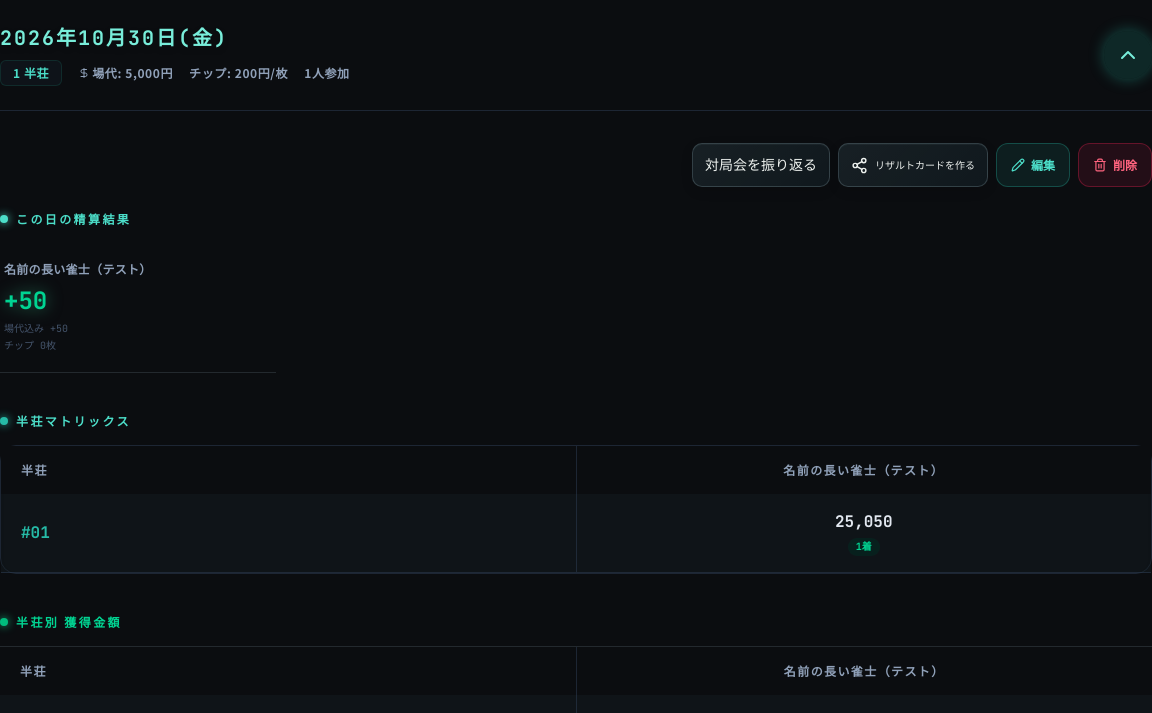
Scenario: recorded-result replay › opens from existing history without invoking any write action
Step 1. Click the button "対局会を振り返る" → (761, 165), box [692, 143, 830, 187]
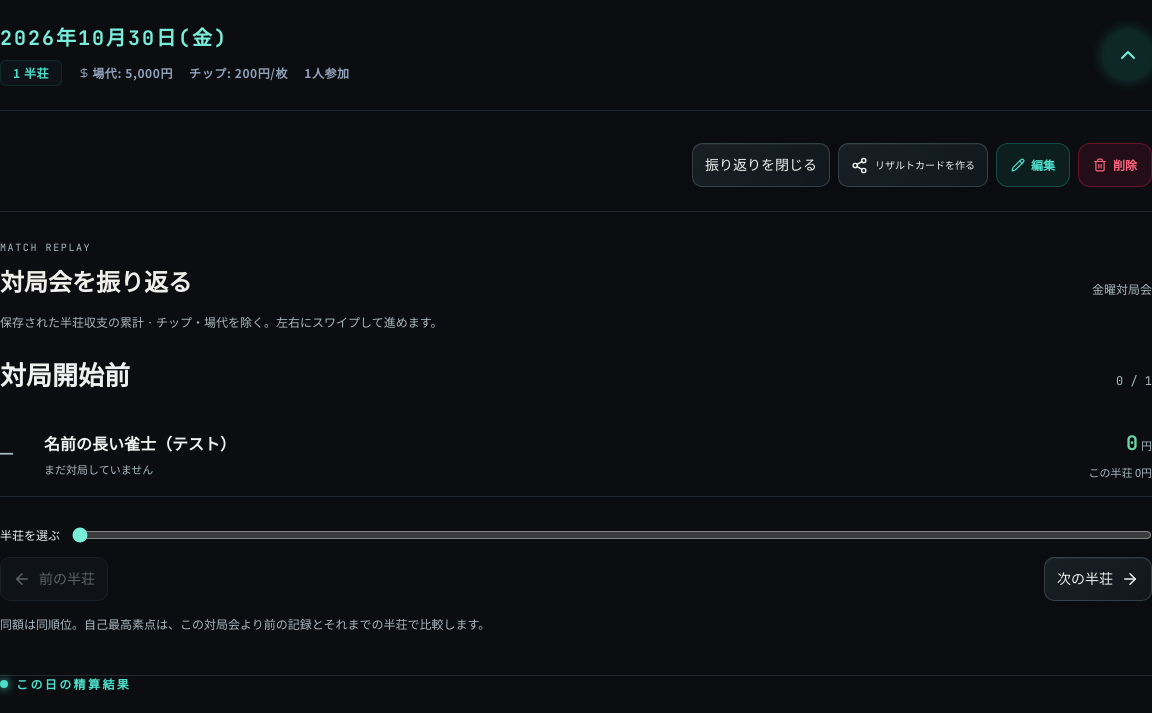
Expected: the heading "対局会を振り返る" is shown, [0, 262, 192, 298]
Step 2. Click the button "次の半荘" → (1098, 579), box [1044, 557, 1151, 601]
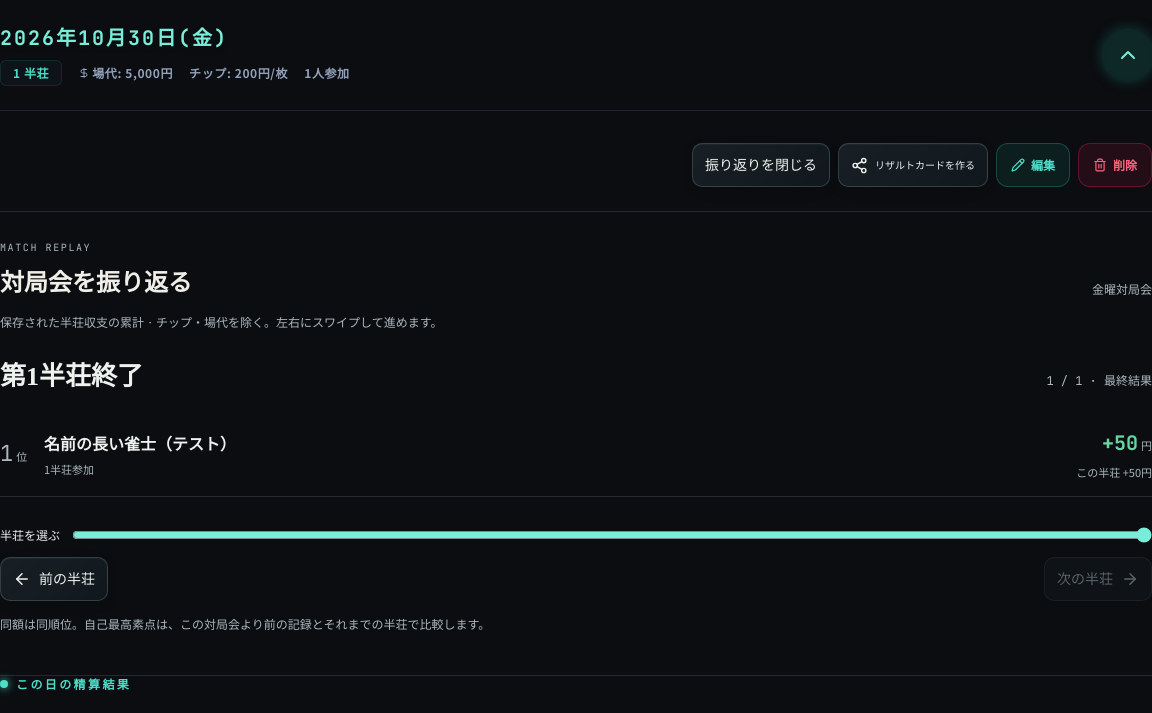
Step 3. Click the button "振り返りを閉じる" → (761, 165), box [692, 143, 830, 187]
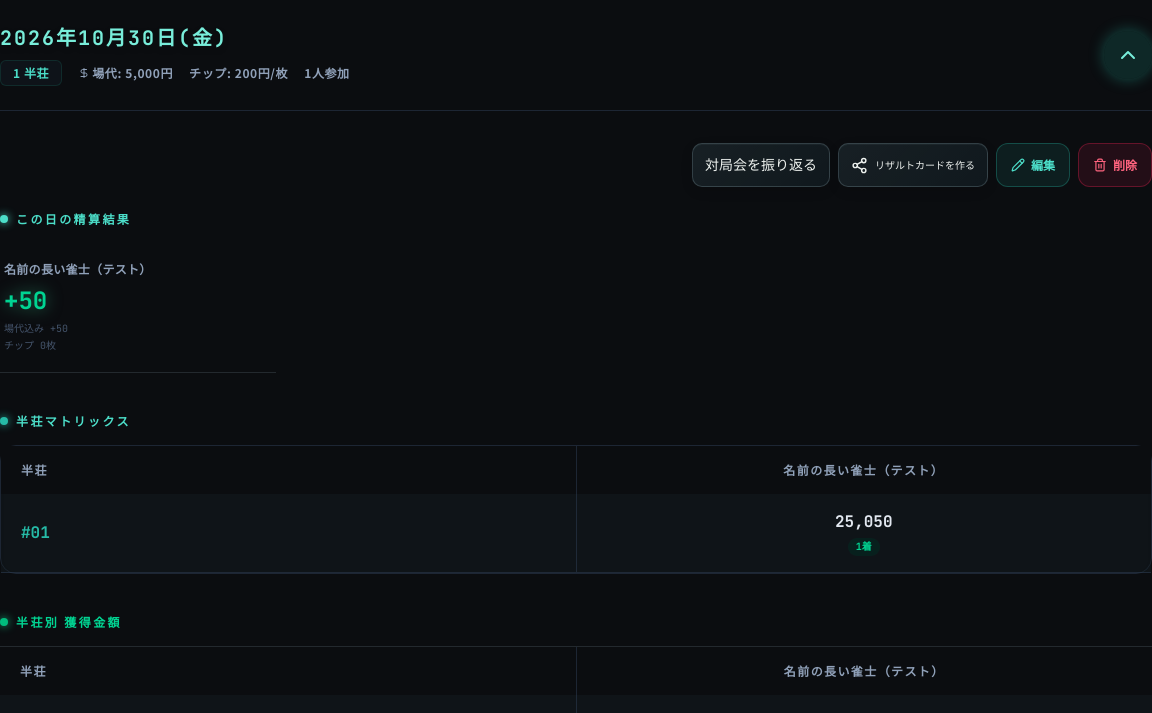
Now the slider is gone
